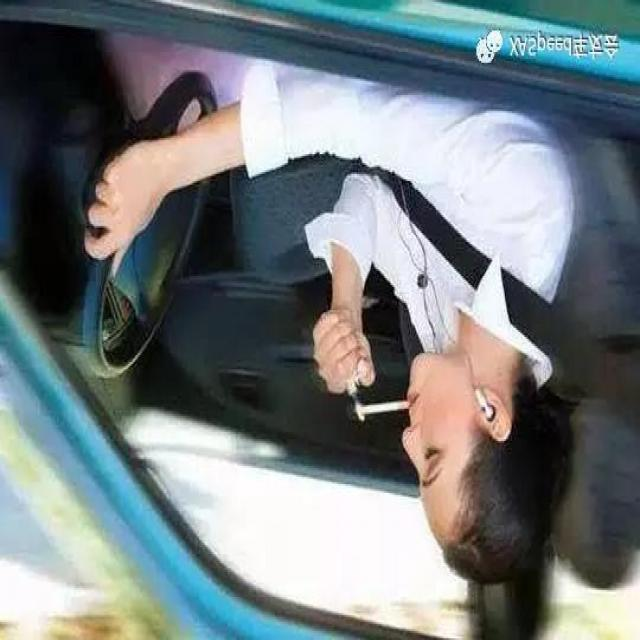cigarette: (336, 386, 428, 432)
